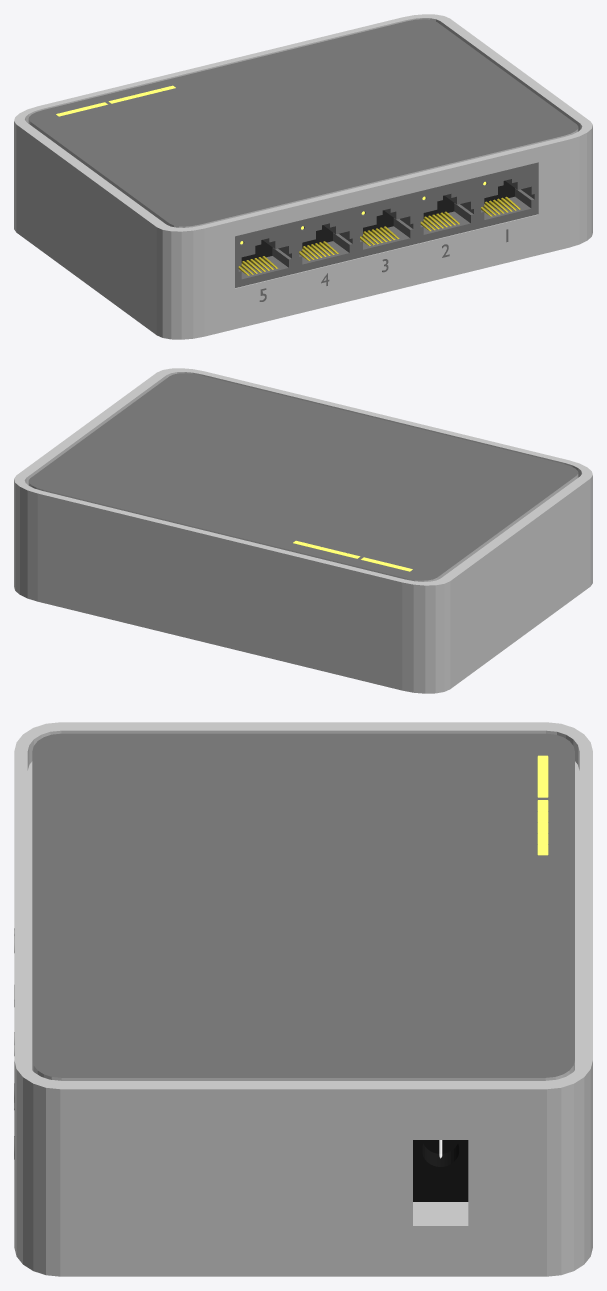
Rendered from dev-switch_lod1.glb.
3 views of the same model, one above another, from view 1: azimuth 30°, elevation 25°; view 2: azimuth 150°, elevation 25°; view 3: azimuth 270°, elevation 25° (orthographic). The views are drawn at different scales.
Parts seen in each view (by area): view 1: body; view 2: body; view 3: body.
Boxes of the visible parts, box(x1,y1,x2,y2) form: body: box(14, 14, 592, 339); body: box(14, 368, 592, 693); body: box(14, 722, 592, 1276).
Bounding box in the file's own units: 0.1 × 0.0239 × 0.0667.
